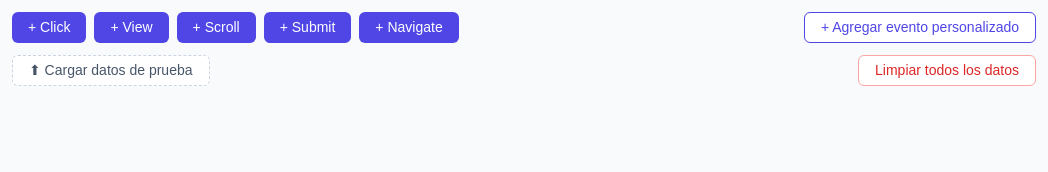
Test case: Seed load › shows the error message when postEvent rejects
This screenshot has width=1048, height=172.
Step 1. Click the button "⬆ Cargar datos de prueba" → x=111, y=70, box x1=12 y1=55 x2=210 y2=86
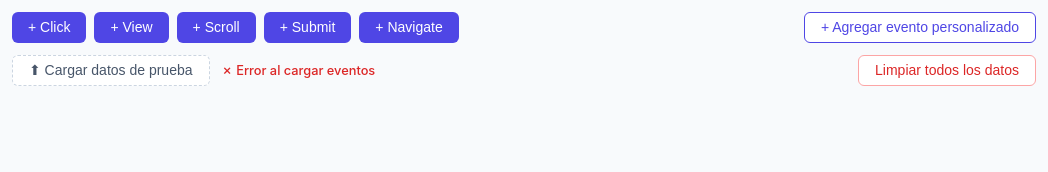
Now the text "✗ Error al cargar eventos" is shown, box x1=222 y1=63 x2=375 y2=78
